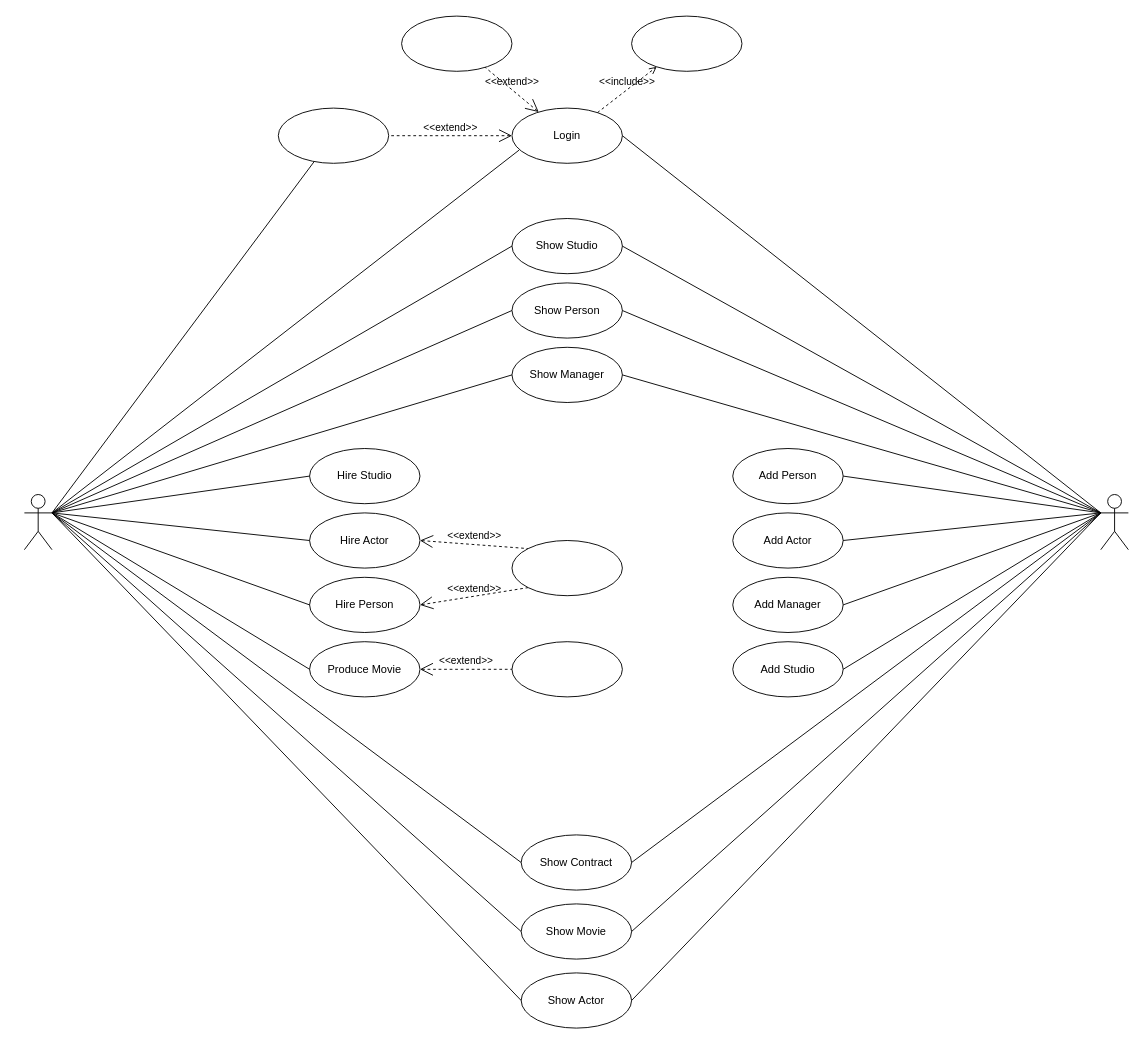
The diagram is 1146 pixels wide and 1044 high, and some of its shapes have lost their labels. Each missing label, with the centre of its shape:
Admin: (1114,522)
Display Login Error: (456,43)
Missing Selection: (566,669)
Not available: (566,568)
Producer: (37,522)
Register: (333,135)
Verify Password: (686,43)
